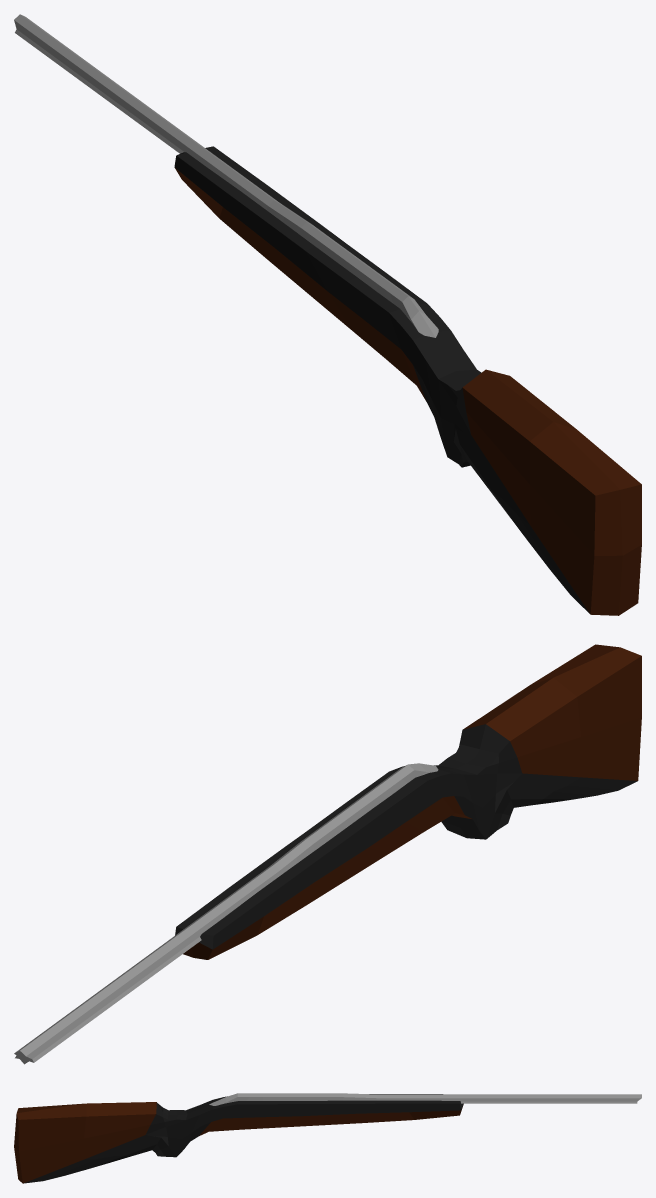
Rendered from hunter.glb.
The picture shows the model from 3 angles, top to bottom: view 1: azimuth 30°, elevation 25°; view 2: azimuth 150°, elevation 25°; view 3: azimuth 270°, elevation 25°; orthographic projection. The views are drawn at different scales.
Parts seen in each view (by area): view 1: Cube, Cylinder; view 2: Cube, Cylinder; view 3: Cube, Cylinder.
Part boxes in pixels (bbox=[...]): Cube: bbox=[174, 146, 641, 615]; Cylinder: bbox=[14, 14, 438, 337]; Cube: bbox=[175, 644, 641, 959]; Cylinder: bbox=[14, 763, 438, 1064]; Cube: bbox=[14, 1094, 463, 1183]; Cylinder: bbox=[209, 1093, 641, 1105].
Bounding box in the file's own units: 0.1123 × 0.3468 × 2.29.
